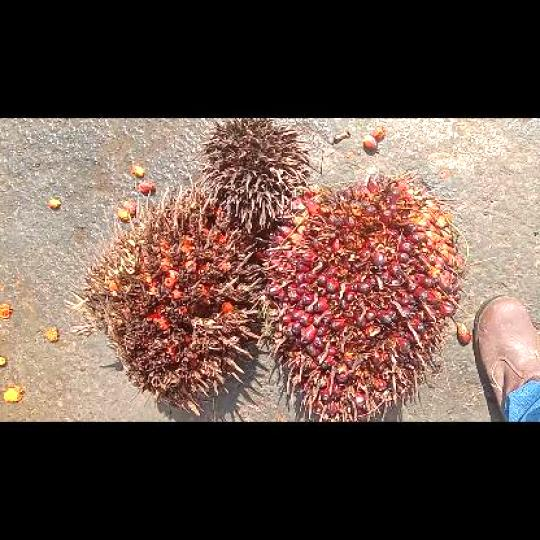masak: (253, 172, 469, 420)
terlalu masak: (72, 176, 266, 416)
